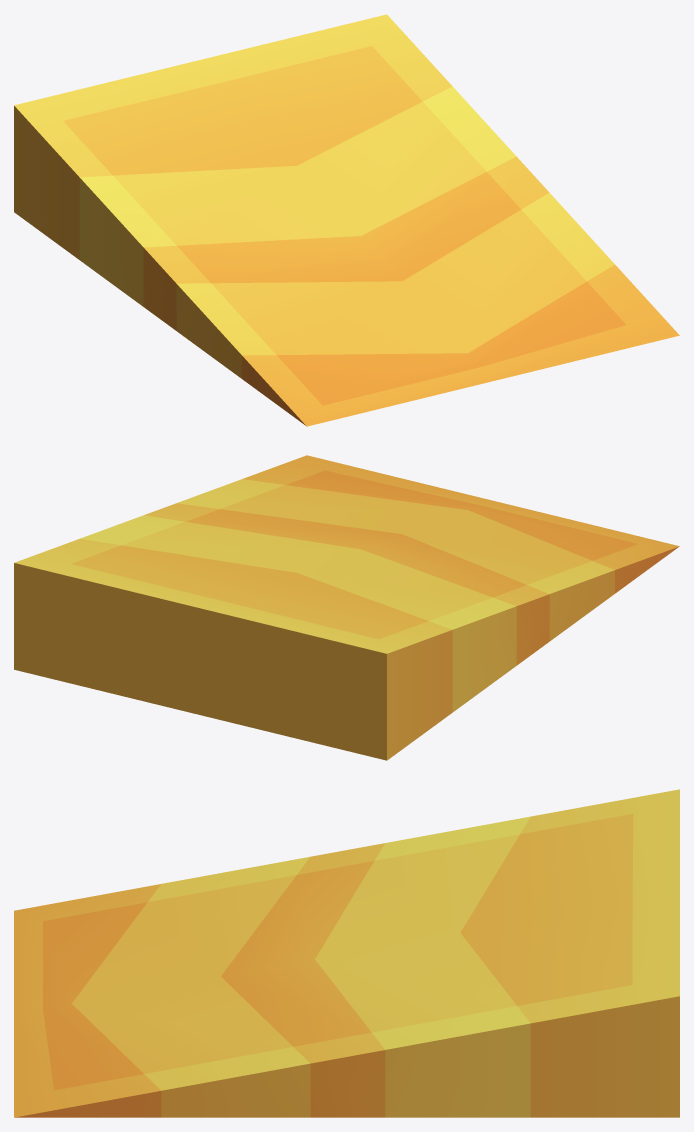
The model's file is tramplin.fbx.
3 views of the same model, one above another, from view 1: azimuth 30°, elevation 25°; view 2: azimuth 150°, elevation 25°; view 3: azimuth 270°, elevation 25° (orthographic). The views are drawn at different scales.
Visible parts, largest first — view 1: tramplin; view 2: tramplin; view 3: tramplin.
Boxes of the visible parts, box(x1,y1,x2,y2) form: tramplin: box(14, 14, 679, 426); tramplin: box(14, 455, 679, 760); tramplin: box(14, 789, 679, 1117).
Size of the model in its own units: 562 by 154 by 765.
